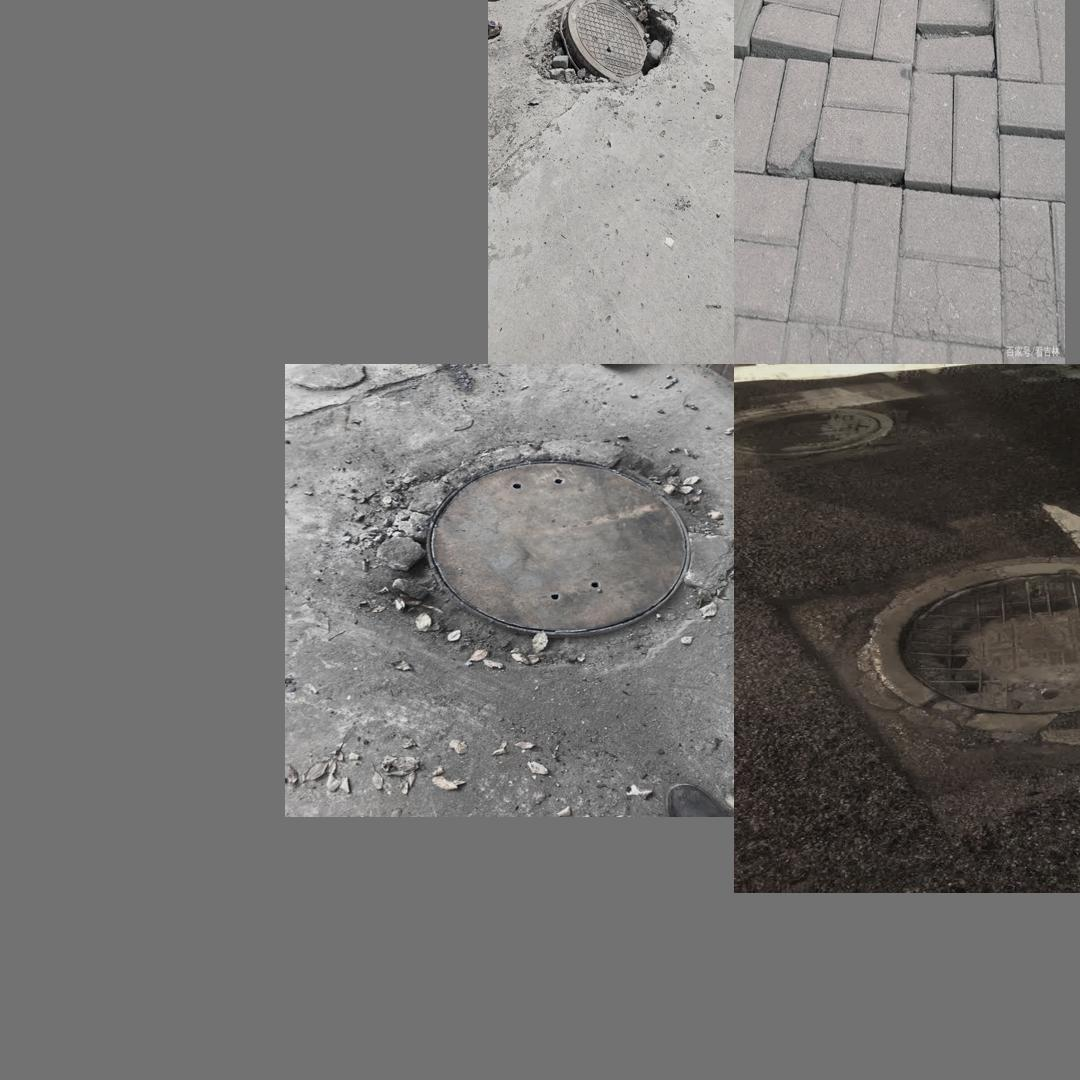circle: (338, 433, 721, 683), (793, 538, 1080, 793), (520, 0, 696, 116), (741, 0, 1061, 6)
